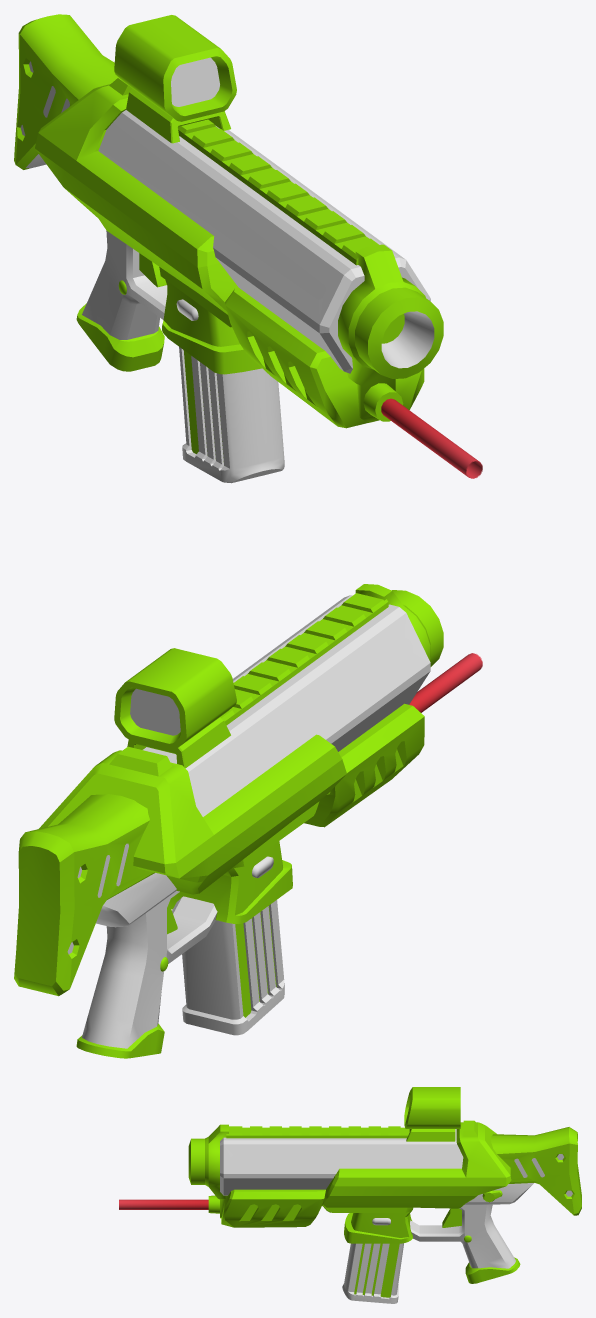
Rendered from Rifle A Mat.fbx.
The picture shows the model from 3 angles, top to bottom: view 1: azimuth 30°, elevation 25°; view 2: azimuth 150°, elevation 25°; view 3: azimuth 270°, elevation 25°; orthographic projection. The views are drawn at different scales.
Visible parts, largest first — view 1: Rifle A Mat, Rifle A Mat.002, Rifle A Mat.001; view 2: Rifle A Mat, Rifle A Mat.002, Rifle A Mat.001; view 3: Rifle A Mat, Rifle A Mat.002, Rifle A Mat.001.
Boxes of the visible parts, box(x1,y1,x2,y2) form: Rifle A Mat: box(14, 14, 443, 428); Rifle A Mat.002: box(179, 347, 284, 483); Rifle A Mat.001: box(381, 398, 482, 478); Rifle A Mat: box(14, 584, 443, 1058); Rifle A Mat.002: box(182, 900, 284, 1035); Rifle A Mat.001: box(409, 653, 482, 712); Rifle A Mat: box(188, 1087, 581, 1283); Rifle A Mat.002: box(342, 1243, 403, 1303); Rifle A Mat.001: box(119, 1199, 208, 1209).
Size of the model in its own units: 0.2201 by 0.5625 by 1.42.
